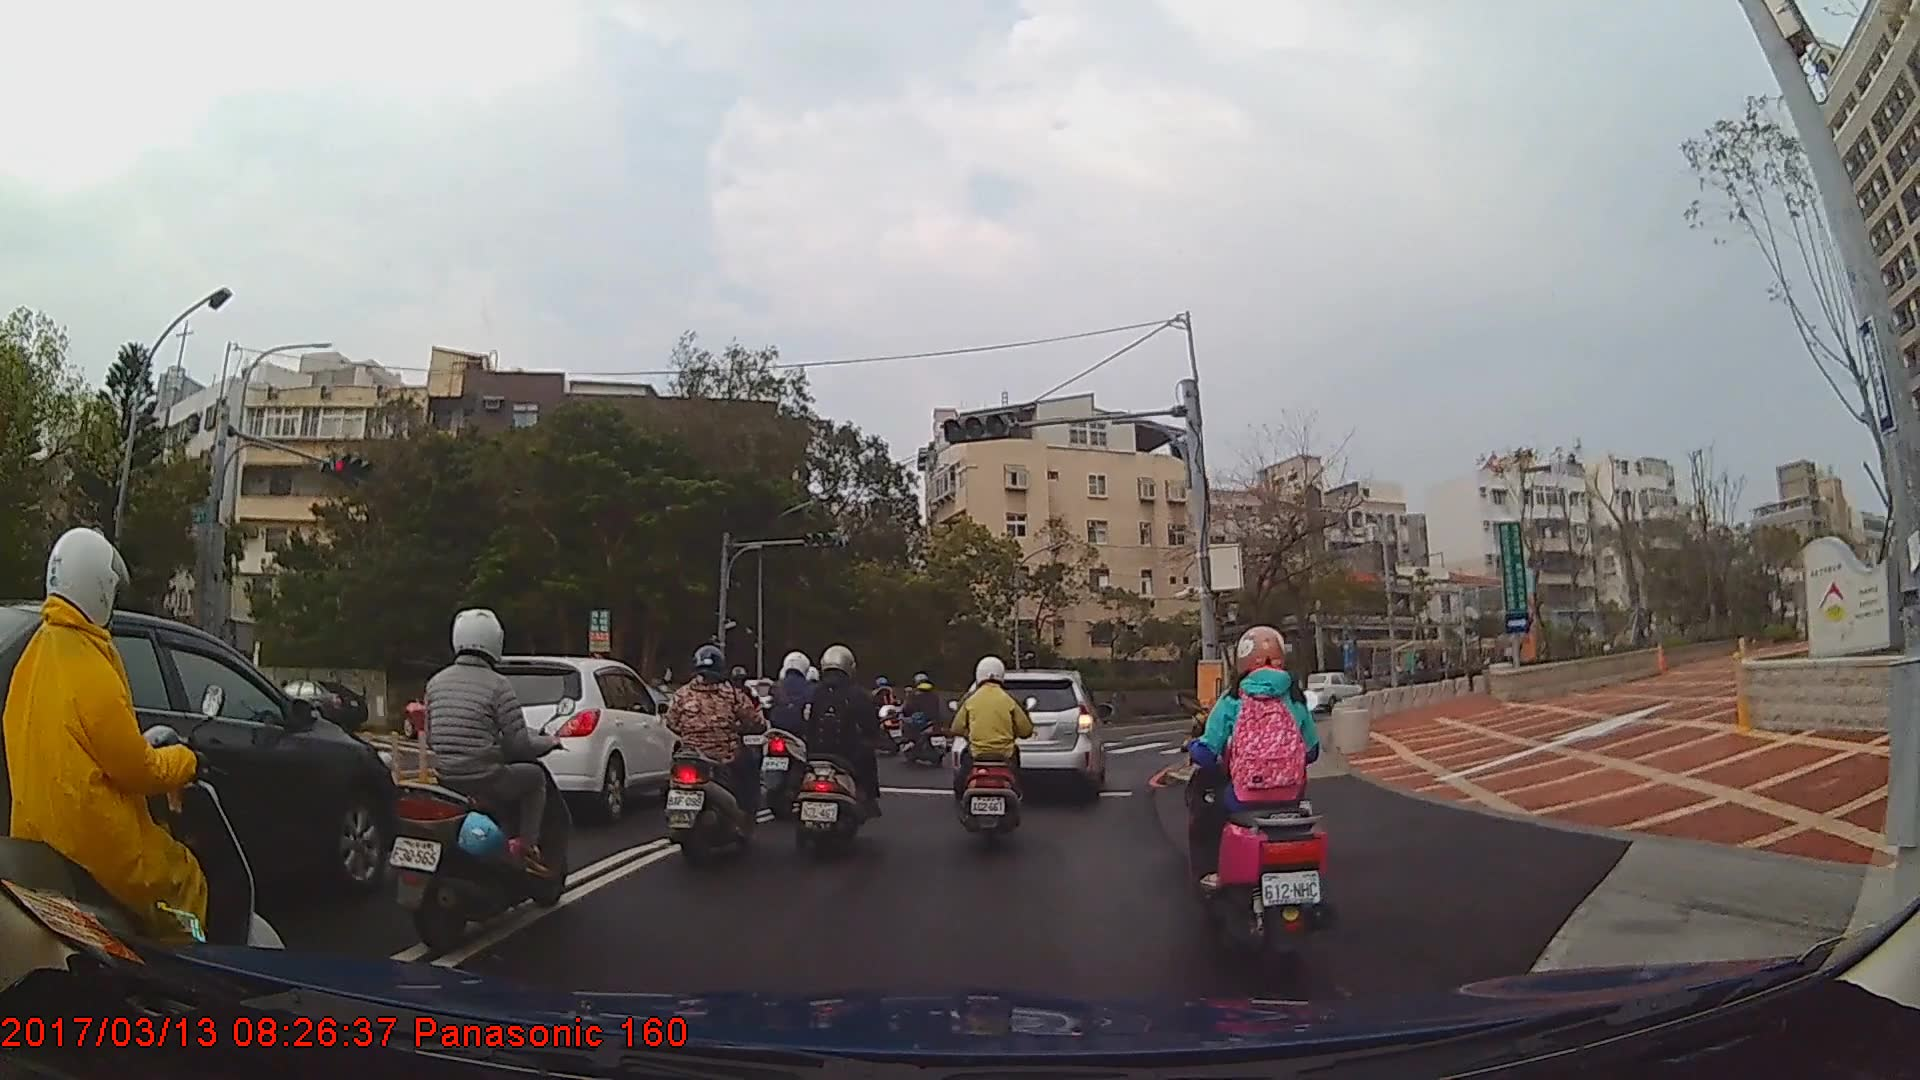rider: (2, 527, 290, 1027), (390, 607, 577, 954), (1186, 627, 1331, 951), (659, 642, 775, 870), (790, 641, 890, 859), (947, 656, 1039, 843), (759, 647, 830, 817), (889, 672, 953, 771), (857, 675, 907, 757)
vehicle: (0, 598, 402, 941), (443, 654, 686, 822), (954, 668, 1107, 800), (265, 677, 369, 732), (1300, 670, 1366, 706)
